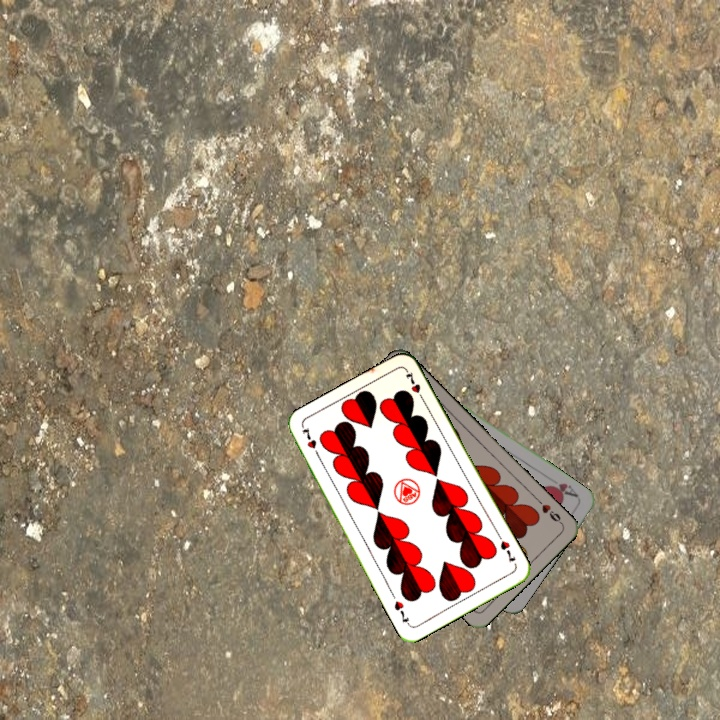H7: (298, 423, 323, 461), (494, 530, 518, 565)
H9: (533, 495, 565, 527)
HA: (543, 473, 581, 500)
